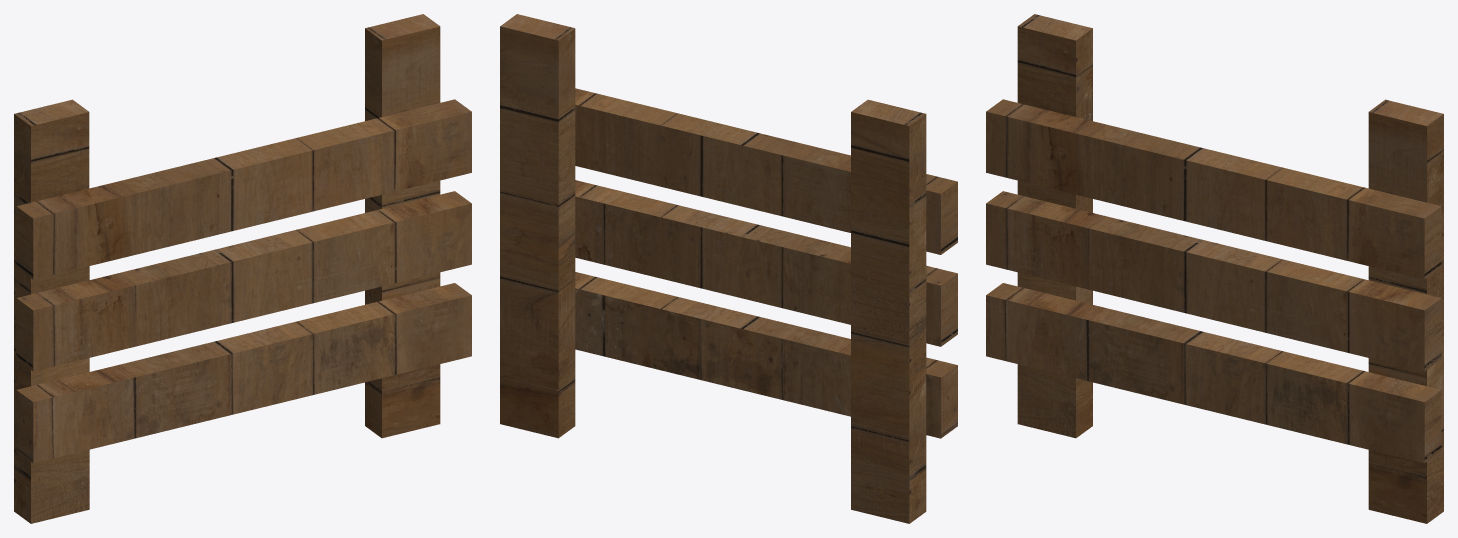
File: wooden_fence.glb
3 views of the same model, side by side, from view 1: azimuth 30°, elevation 25°; view 2: azimuth 150°, elevation 25°; view 3: azimuth 330°, elevation 25° (orthographic).
Parts seen in each view (by area): view 1: WoodenFence; view 2: WoodenFence; view 3: WoodenFence.
Boxes of the visible parts, <box> form: WoodenFence: <box>14,14,471,523</box>; WoodenFence: <box>500,14,957,523</box>; WoodenFence: <box>986,14,1443,523</box>.
Bounding box in the file's own units: 1.5 × 1.3 × 0.2.
Materials: 1 (1 with a texture image).
